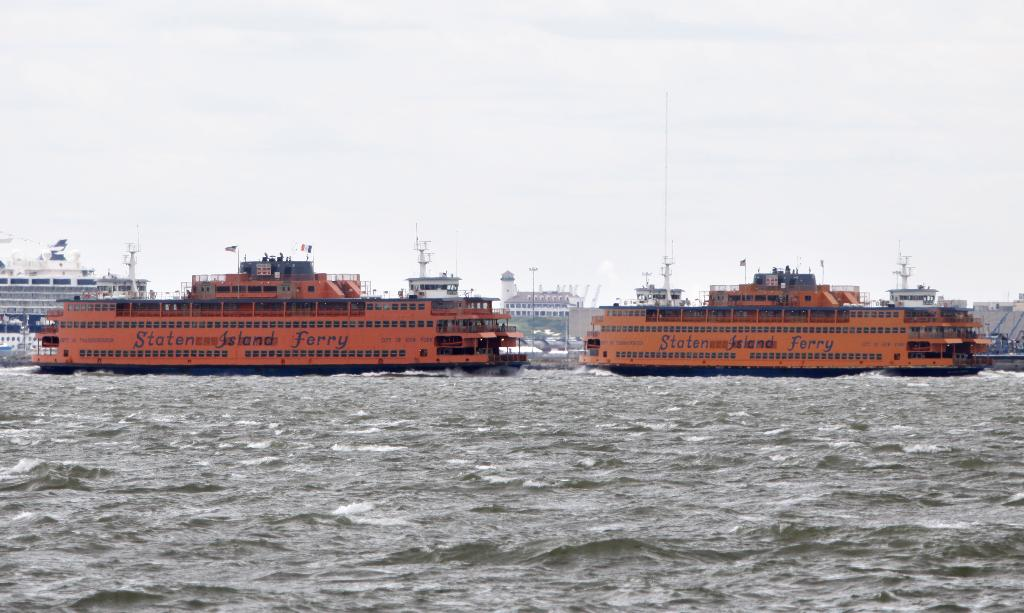PassengerShip: (30, 244, 536, 384), (571, 253, 1003, 386)
